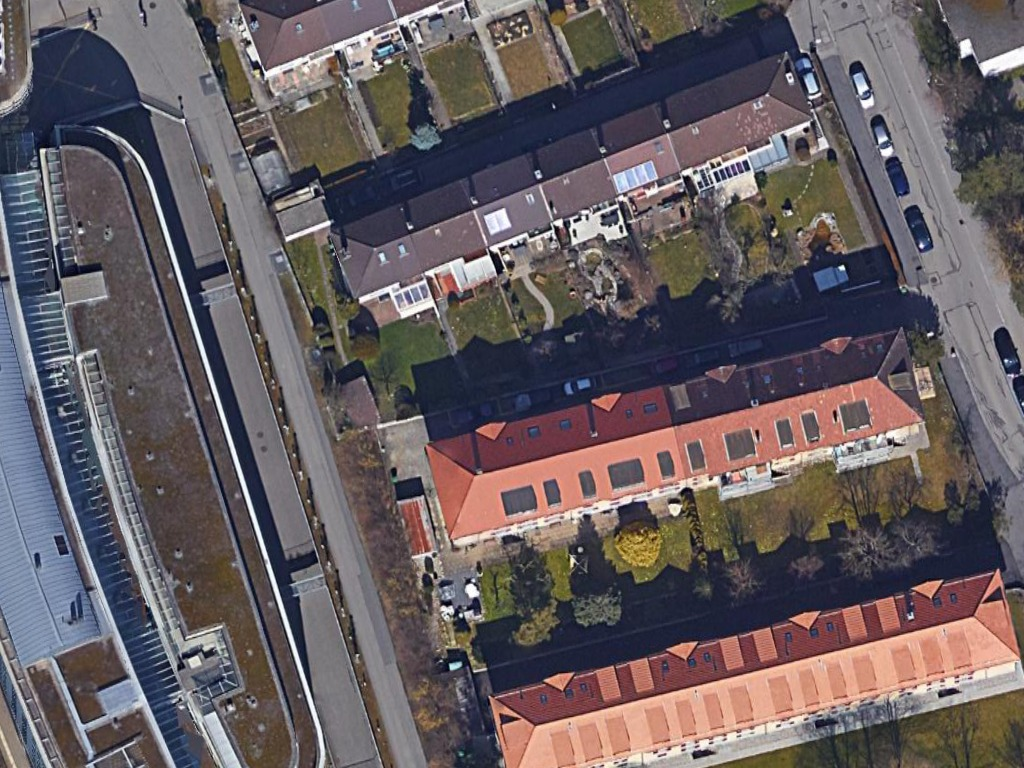car: (793, 50, 826, 105), (847, 65, 880, 117), (867, 111, 894, 160)
